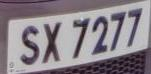2: (90, 14, 109, 55)
7: (68, 14, 90, 59), (108, 10, 128, 52), (126, 4, 144, 50)
S: (19, 23, 43, 70)
X: (42, 20, 65, 66)
